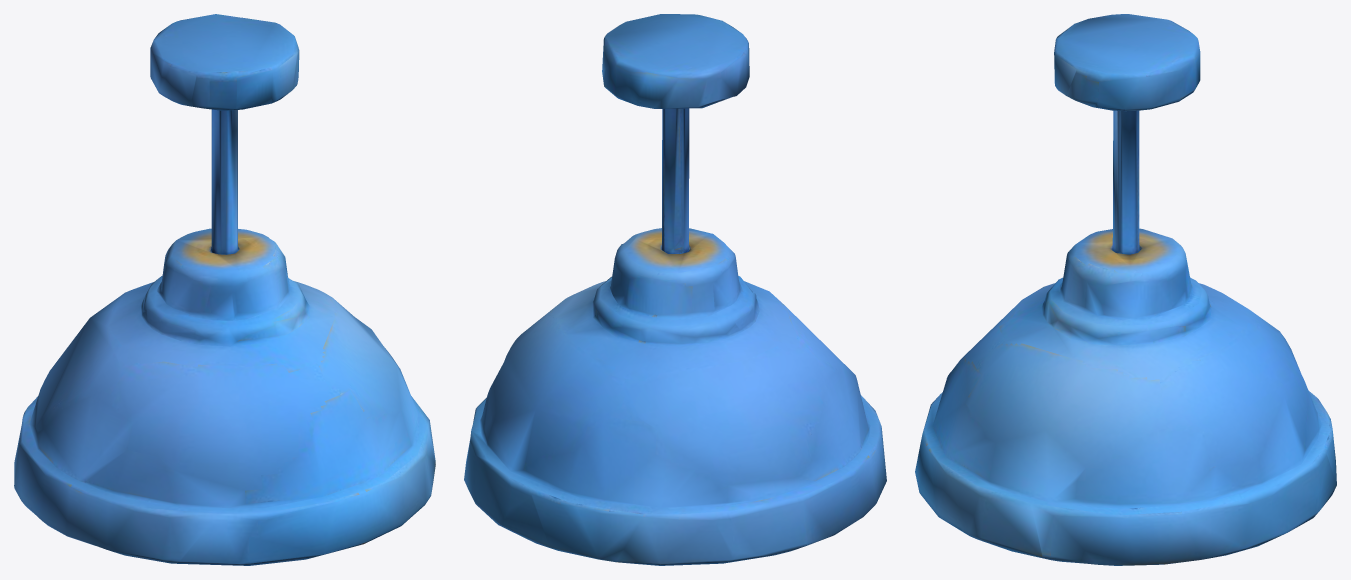
The model's file is pendant_lamp.glb.
3 views of the same model, side by side, from view 1: azimuth 30°, elevation 25°; view 2: azimuth 150°, elevation 25°; view 3: azimuth 270°, elevation 25° (orthographic).
Visible parts, largest first — view 1: pendant_lamp; view 2: pendant_lamp; view 3: pendant_lamp.
Part boxes in pixels (box(x1,y1,x2,y2)): pendant_lamp: box(14, 14, 435, 565); pendant_lamp: box(464, 14, 886, 565); pendant_lamp: box(915, 14, 1336, 565).
Bounding box in the file's own units: 0.8047 × 0.9914 × 0.8034.
1 material, 1 textured.
